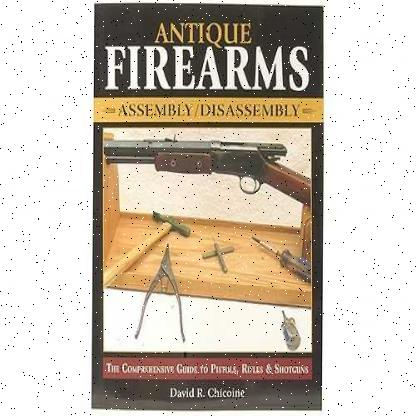rifle: (101, 121, 320, 211)
